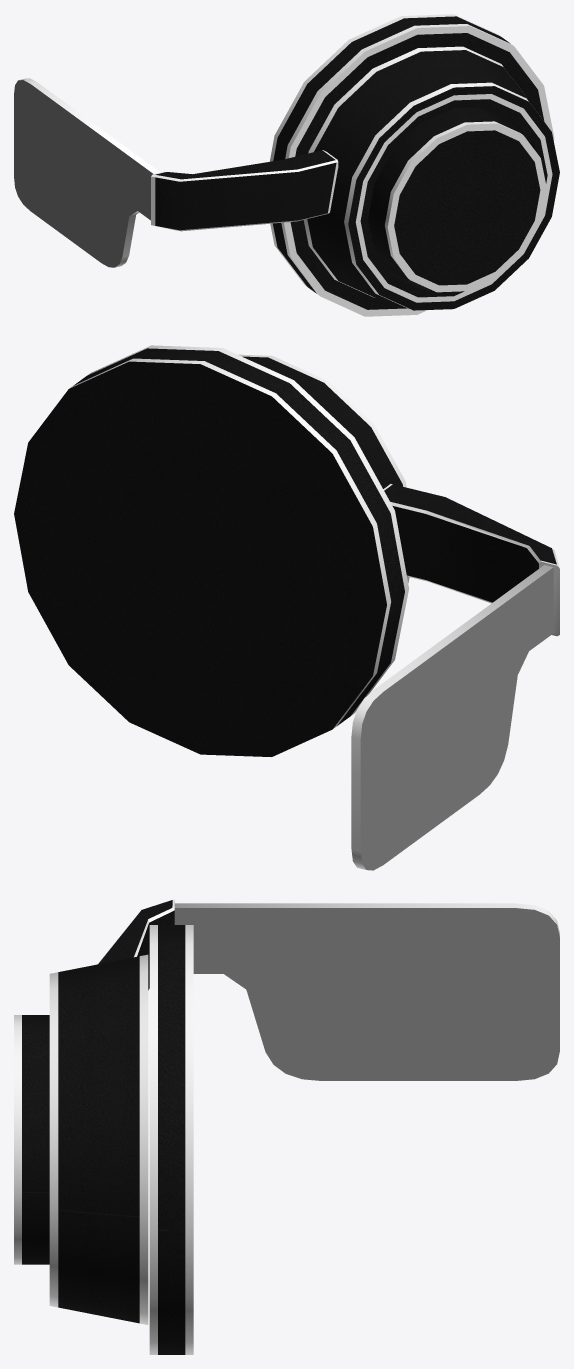
Rendered from scouter.FBX.
3 renders of one model, top to bottom at view 1: azimuth 30°, elevation 25°; view 2: azimuth 150°, elevation 25°; view 3: azimuth 270°, elevation 25°, orthographic. The views are drawn at different scales.
Parts seen in each view (by area): view 1: Cylinder01; view 2: Cylinder01; view 3: Cylinder01.
Part boxes in pixels (box(x1,y1,x2,y2)): Cylinder01: box(14, 14, 559, 316); Cylinder01: box(14, 345, 559, 870); Cylinder01: box(14, 899, 559, 1354).
Bounding box in the file's own units: 34.11 × 23.72 × 30.08.
